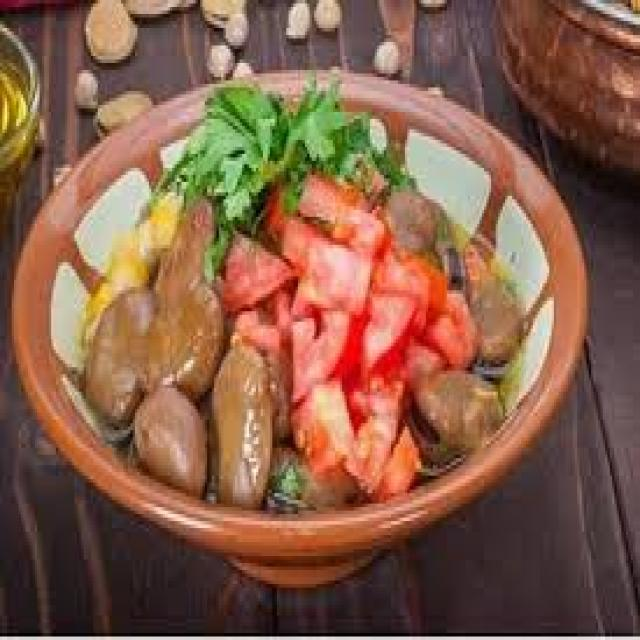fool: (86, 103, 519, 508)
